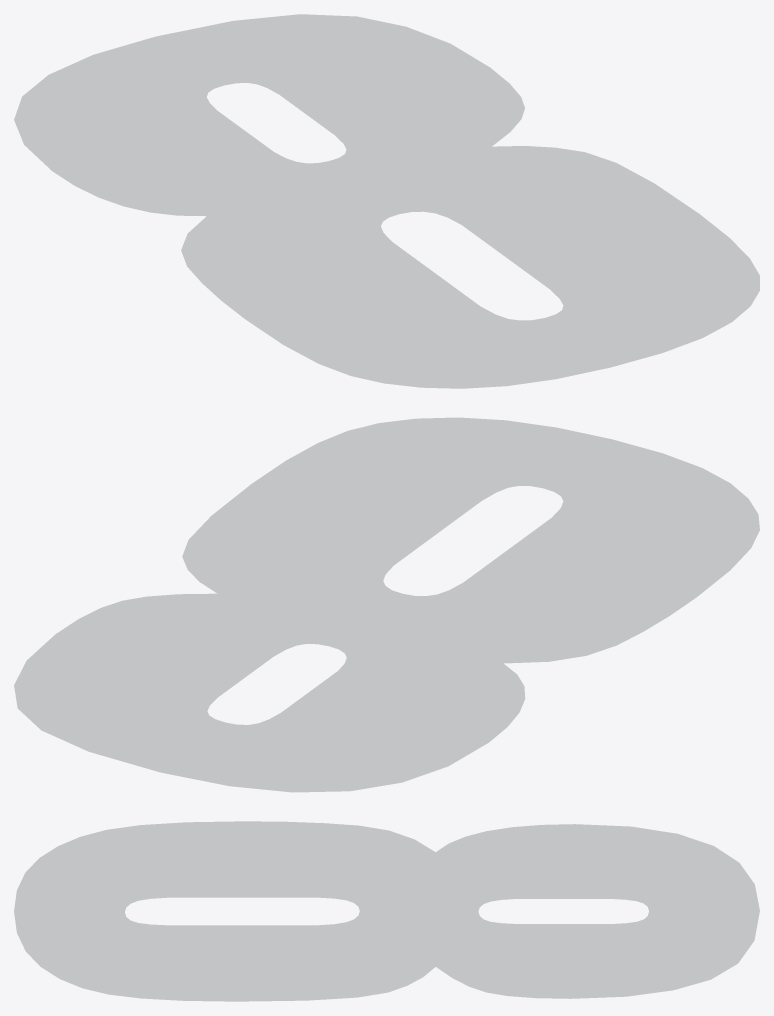
File: Number_8.FBX
The picture shows the model from 3 angles, top to bottom: view 1: azimuth 30°, elevation 25°; view 2: azimuth 150°, elevation 25°; view 3: azimuth 270°, elevation 25°; orthographic projection. The views are drawn at different scales.
Parts seen in each view (by area): view 1: Number_8; view 2: Number_8; view 3: Number_8.
Part boxes in pixels (bbox=[...]): Number_8: bbox=[14, 14, 759, 388]; Number_8: bbox=[14, 417, 759, 792]; Number_8: bbox=[14, 821, 759, 1001].
Bounding box in the file's own units: 3.56 × 2.72e-07 × 6.22.
